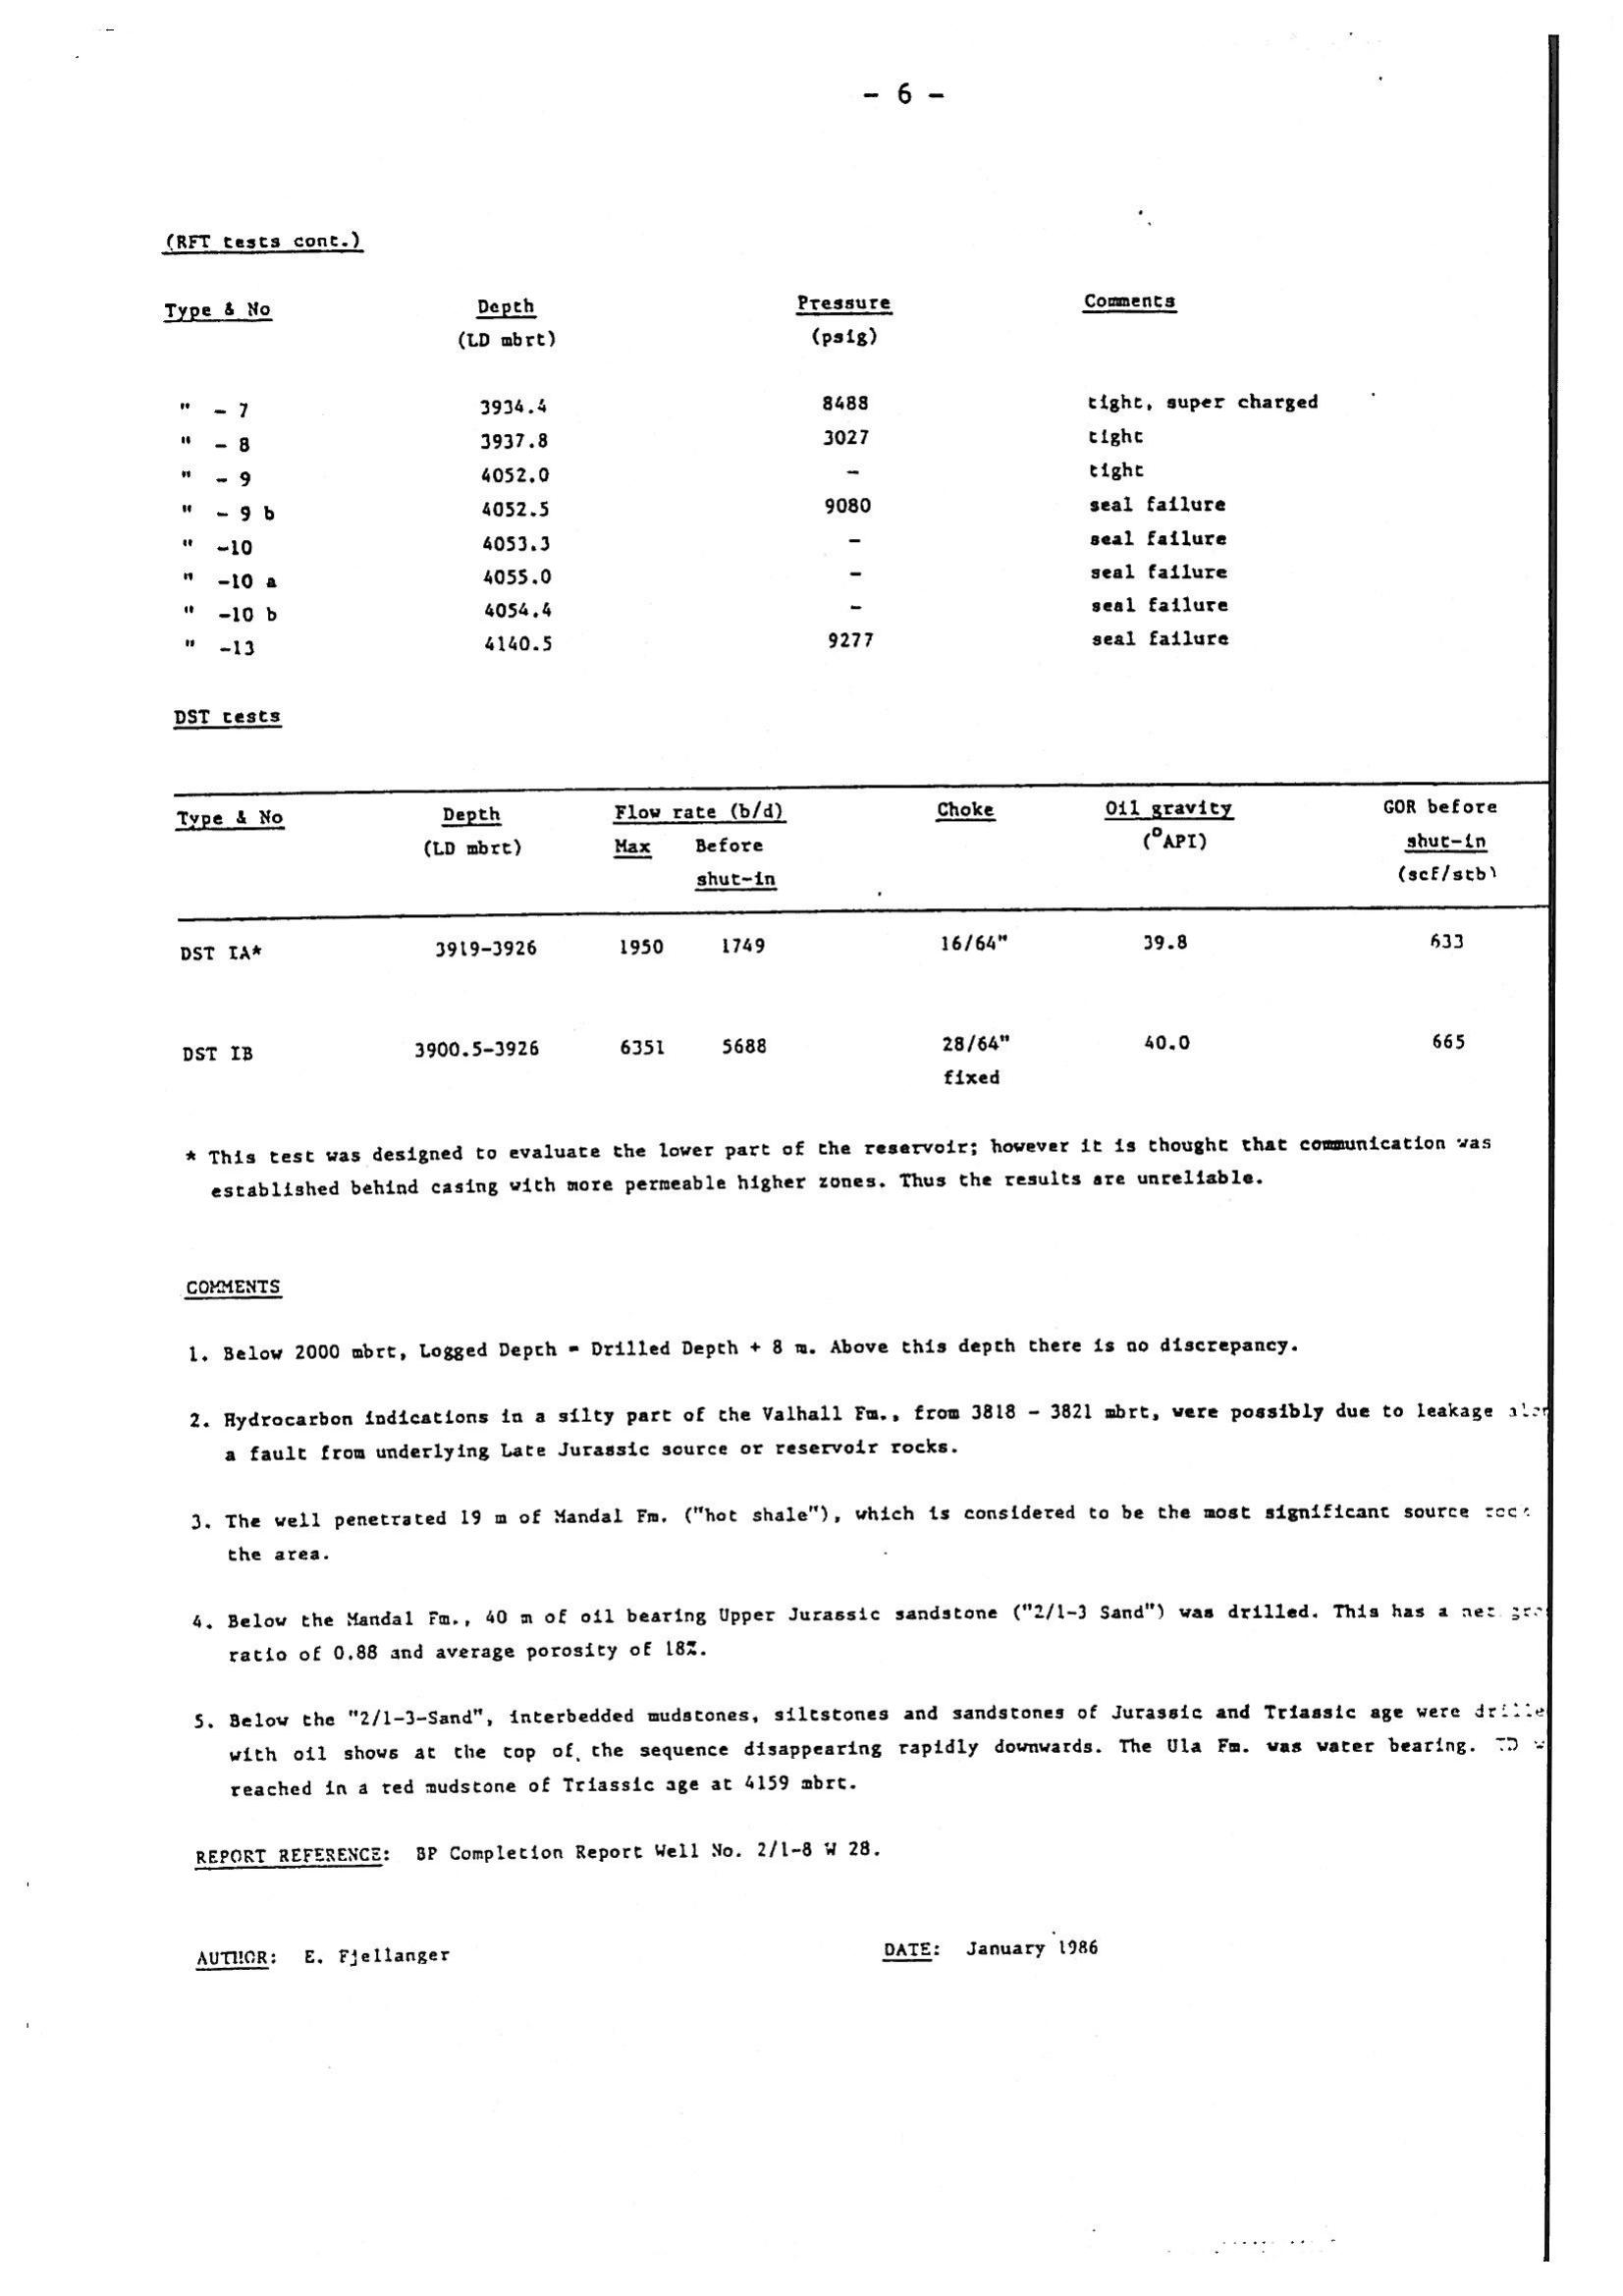table: (119, 195, 1400, 694), (148, 699, 1537, 1107)
text: (158, 1245, 1546, 1904), (176, 1117, 1518, 1217), (884, 1918, 1110, 1990), (183, 1939, 467, 1990)
